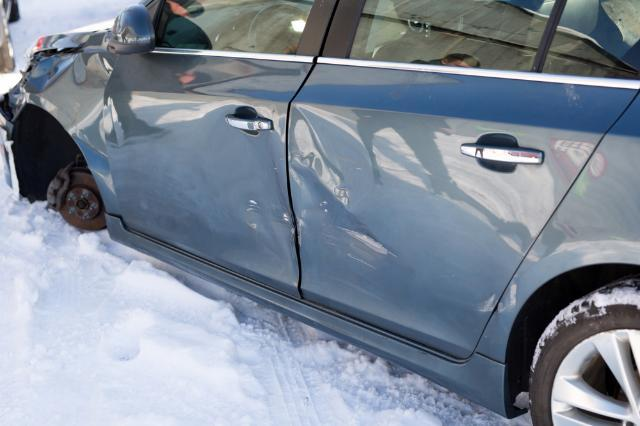dent: (281, 140, 395, 263), (205, 113, 296, 253)
no part: (13, 106, 103, 235)
